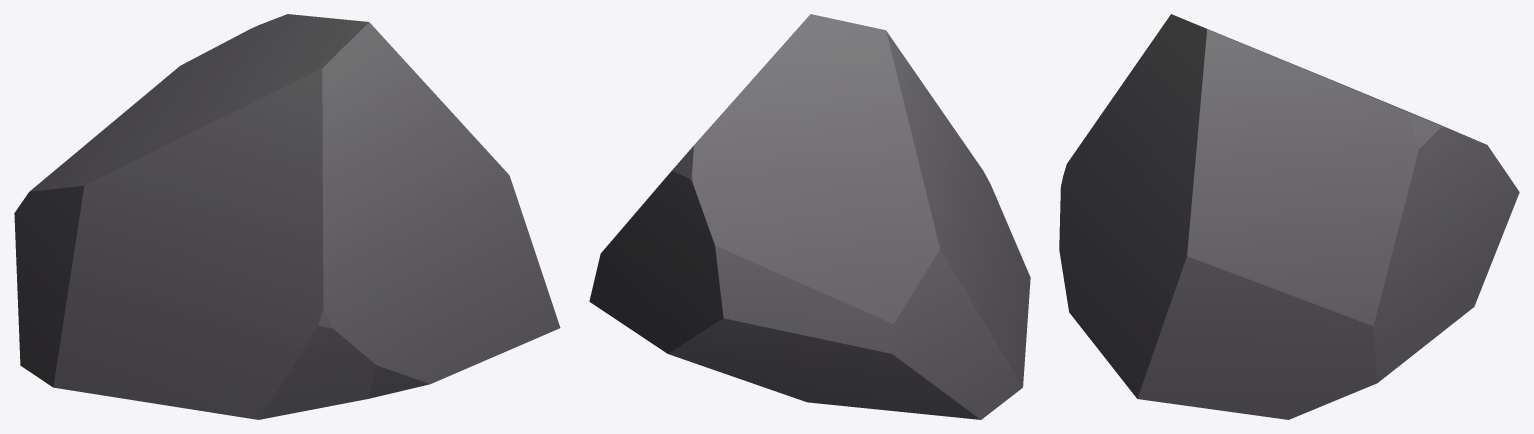
The model's file is SM_Nature_BigRock_01.fbx.
3 renders of one model, left to right at view 1: azimuth 30°, elevation 25°; view 2: azimuth 150°, elevation 25°; view 3: azimuth 270°, elevation 25°, orthographic. The views are drawn at different scales.
Parts seen in each view (by area): view 1: SM_Nature_BigRock_01; view 2: SM_Nature_BigRock_01; view 3: SM_Nature_BigRock_01.
Part boxes in pixels (x1=…): SM_Nature_BigRock_01: x1=14, y1=14, x2=560, y2=419; SM_Nature_BigRock_01: x1=589, y1=14, x2=1030, y2=419; SM_Nature_BigRock_01: x1=1059, y1=14, x2=1519, y2=419.
Size of the model in its own units: 9.3 by 6.9 by 8.91.
